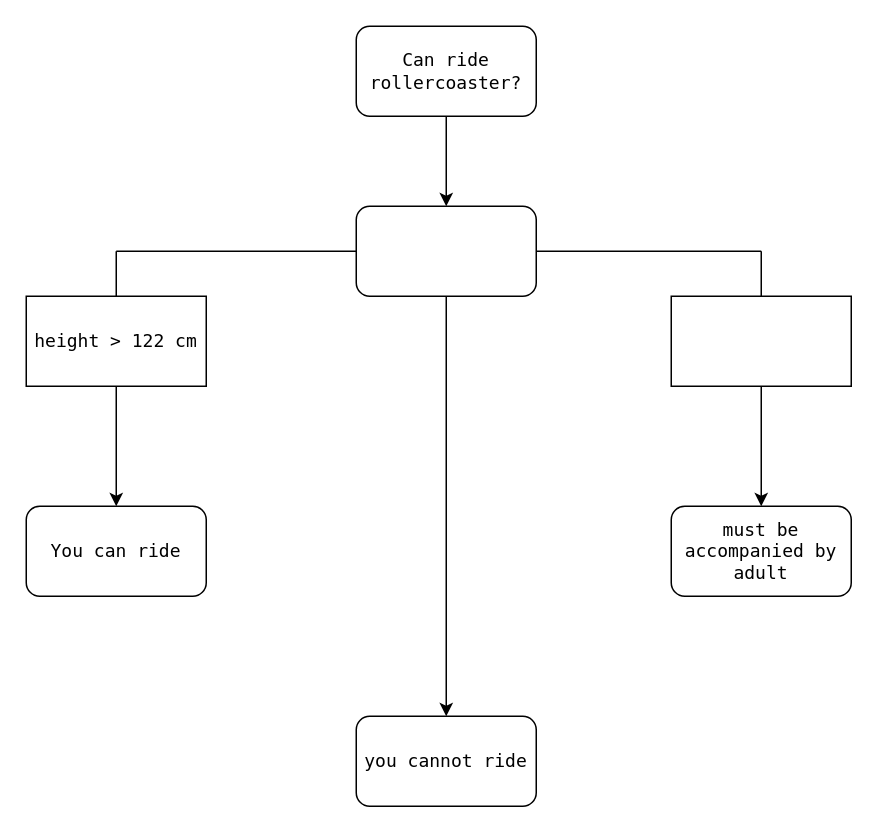
The diagram is 878 pixels wide and 833 high, and some of its shapes have lost their labels. Here are the shapes that lost their labels. From the top down, the box of each, then its label:
(355, 205, 536, 296): Check height
(670, 295, 851, 386): height is between 107cm and 122 cm
